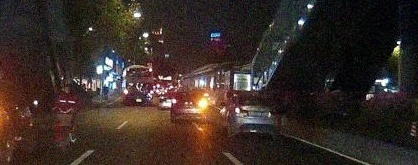L_light: (172, 98, 177, 103)
R_light: (200, 99, 208, 105)
T_light: (188, 93, 195, 95)
night-right: (172, 91, 209, 123)
